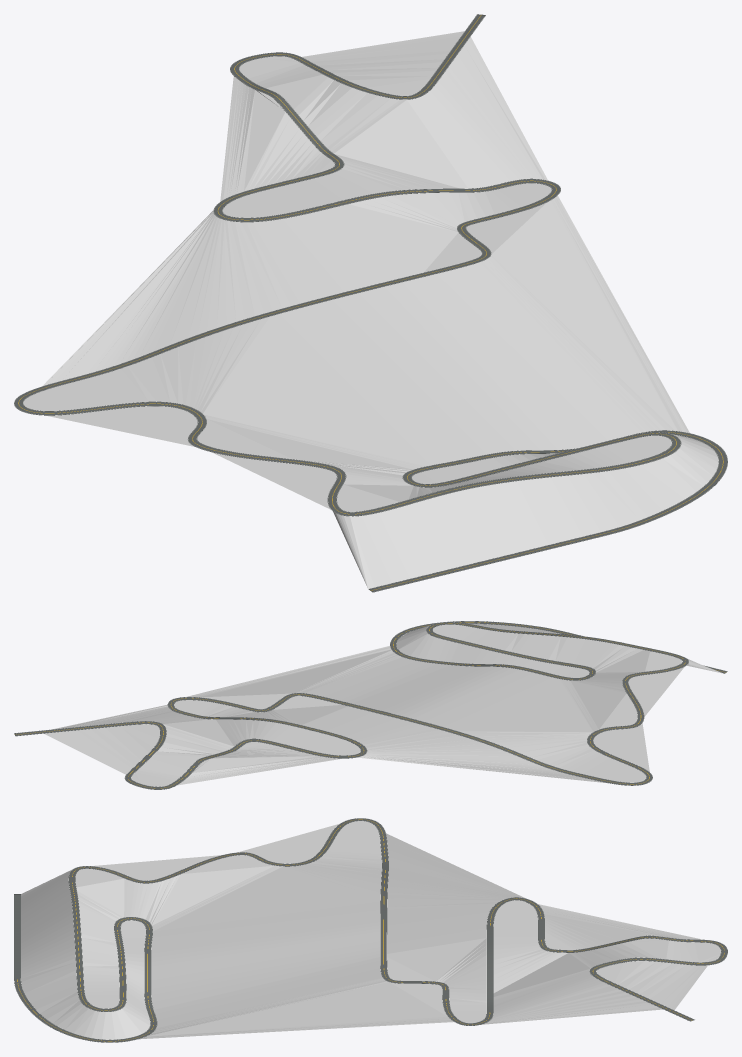
Rendered from roadMountain.fbx.
3 renders of one model, top to bottom at view 1: azimuth 30°, elevation 25°; view 2: azimuth 150°, elevation 25°; view 3: azimuth 270°, elevation 25°, orthographic. The views are drawn at different scales.
Parts seen in each view (by area): view 1: Mountain, Road; view 2: Mountain, Road; view 3: Mountain, Road.
Boxes of the visible parts, x1,y1,x2,y2 form: Mountain: (23,31,718,588); Road: (14,14,727,592); Mountain: (44,623,723,786); Road: (14,621,727,789); Mountain: (21,821,720,1039); Road: (14,818,727,1042).
Bounding box in the file's own units: 15764 × 2311 × 19001.
